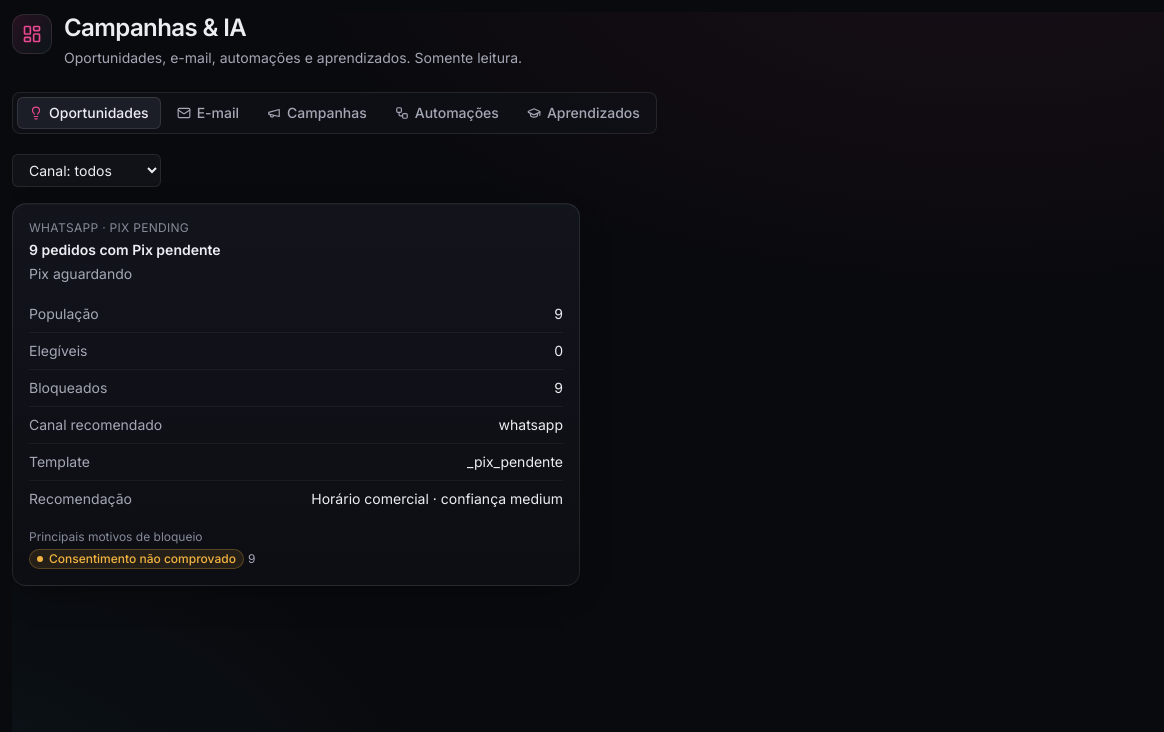
Scenario: CampaignsPage › automações: cron false = "Cron desabilitado" neutro
Click the tab "Automações". click: (447, 113)
box: [383,97,511,129]
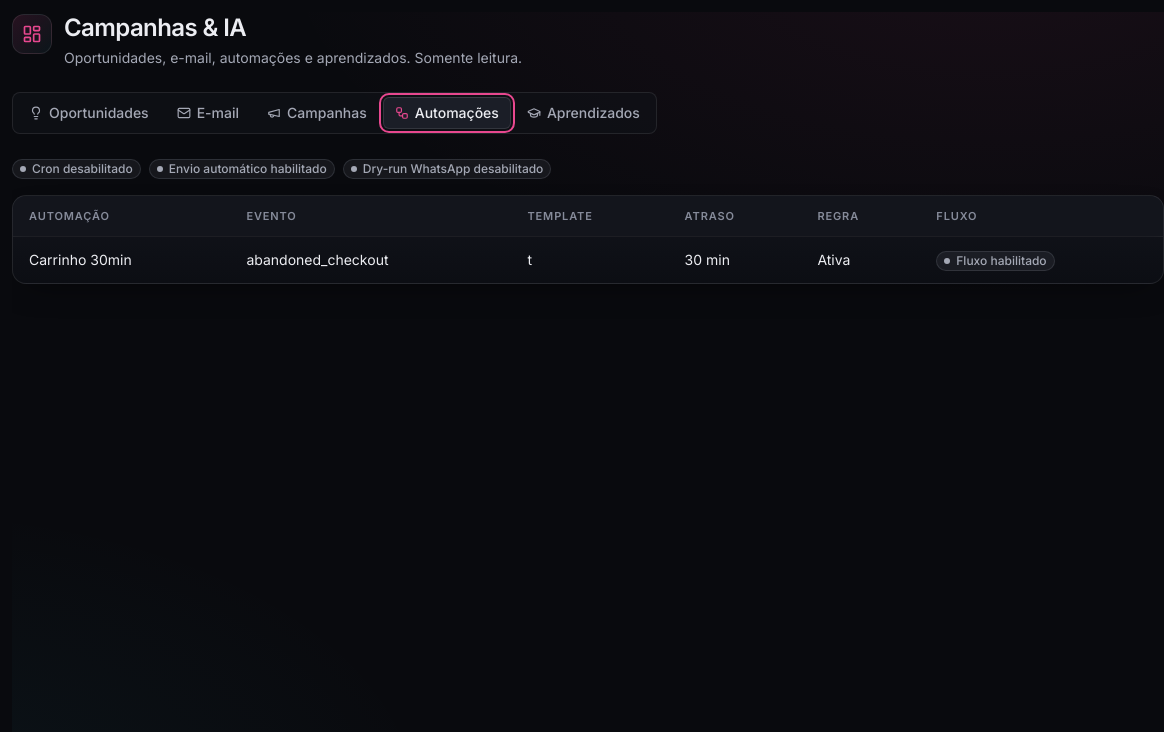
Now the text "Cron desabilitado" is shown, box [12,159,141,179]
Now the text "Carrinho 30min" is shown, box [13,236,230,283]
